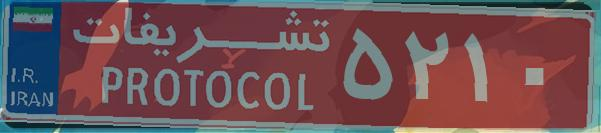0: (520, 20, 580, 115)
1: (460, 20, 520, 115)
2: (400, 20, 460, 115)
5: (340, 20, 400, 115)
تشریفات: (60, 8, 340, 125)
